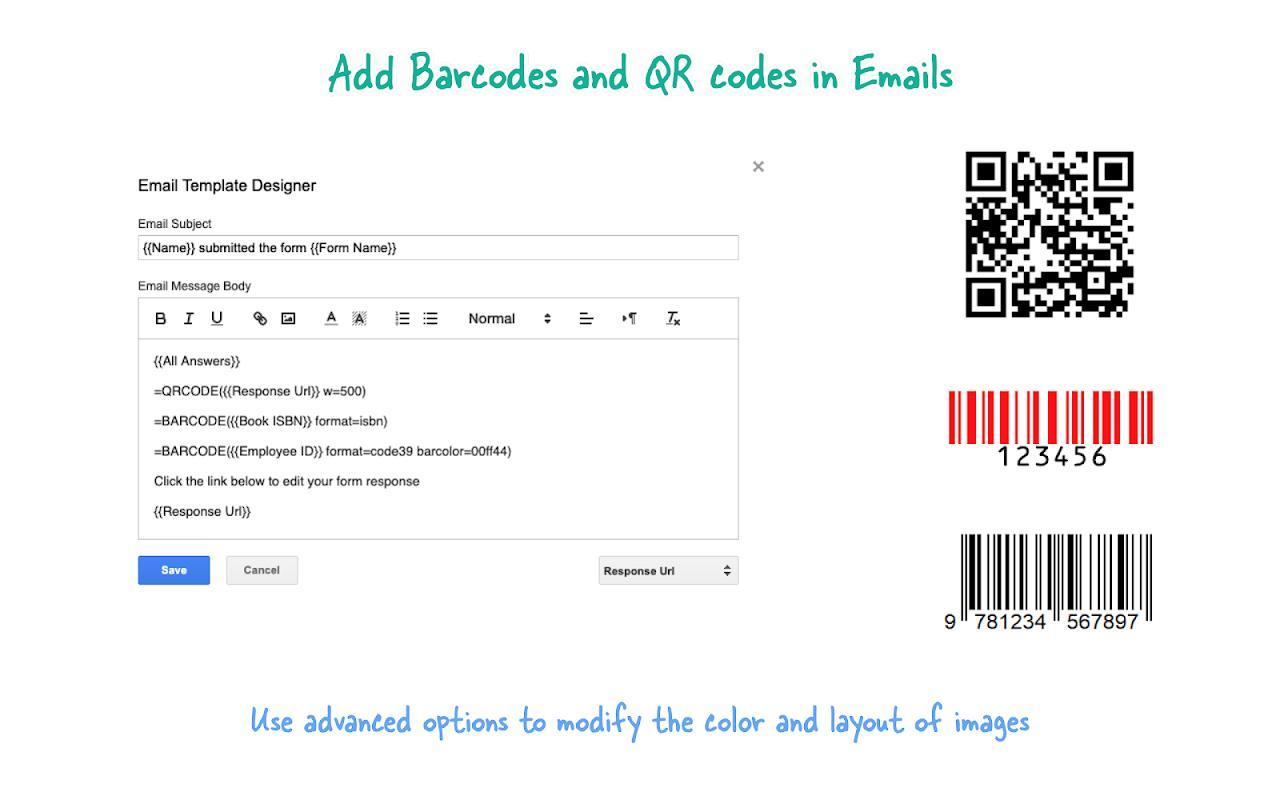button: (139, 556, 212, 587), (228, 558, 299, 585)
dropdown: (600, 558, 740, 586)
icon: (421, 310, 443, 330), (395, 310, 414, 331), (350, 309, 369, 329), (578, 310, 598, 328), (324, 310, 341, 330), (154, 309, 171, 329), (280, 310, 298, 328), (622, 311, 640, 329), (667, 310, 684, 328), (210, 310, 227, 328), (253, 311, 269, 329), (183, 310, 198, 328), (752, 160, 767, 174)
input: (139, 236, 740, 261)
label: (138, 178, 322, 196), (136, 281, 252, 294), (138, 218, 215, 232)
